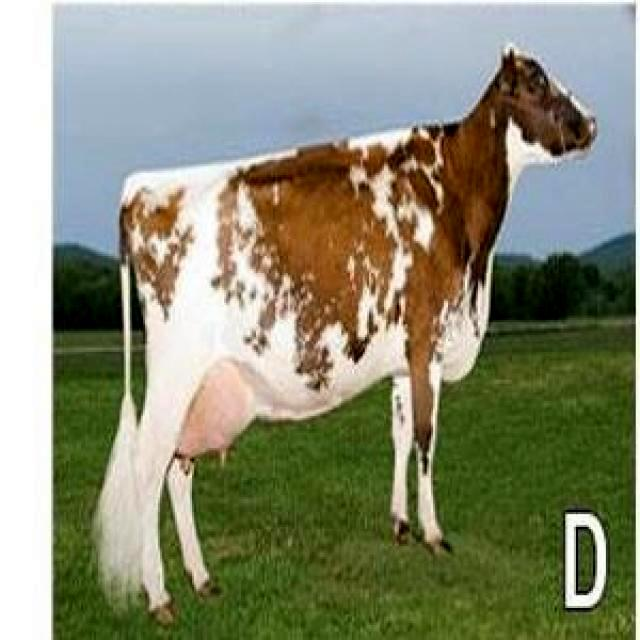COW: (96, 49, 595, 616)
